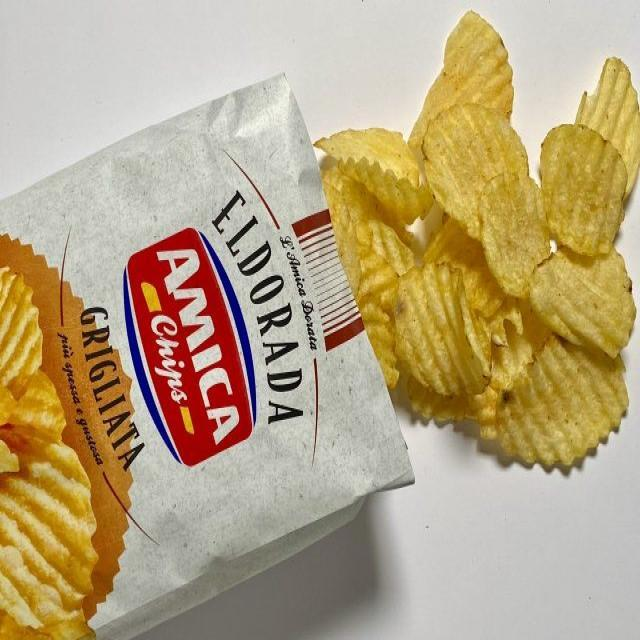Chips: (4, 72, 424, 640)
Chips packaged: (345, 15, 638, 473)
